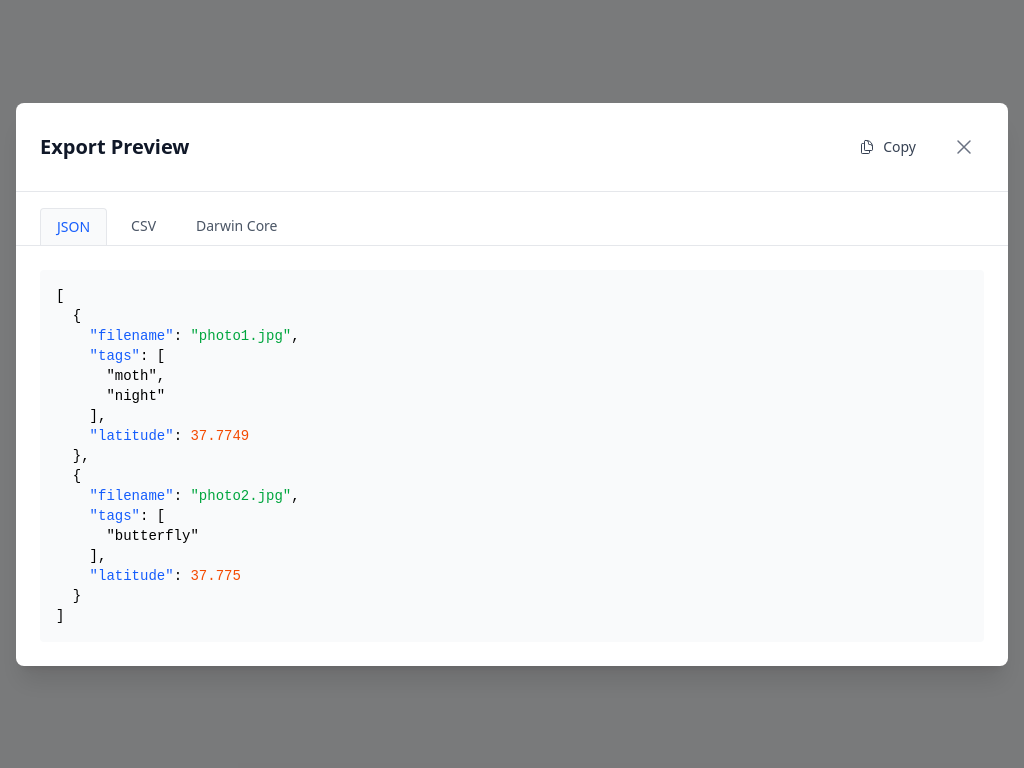
Test: PreviewModal › handles copy error gracefully
Click the button "Copy". click: (888, 146)
box: [843,128,932,164]
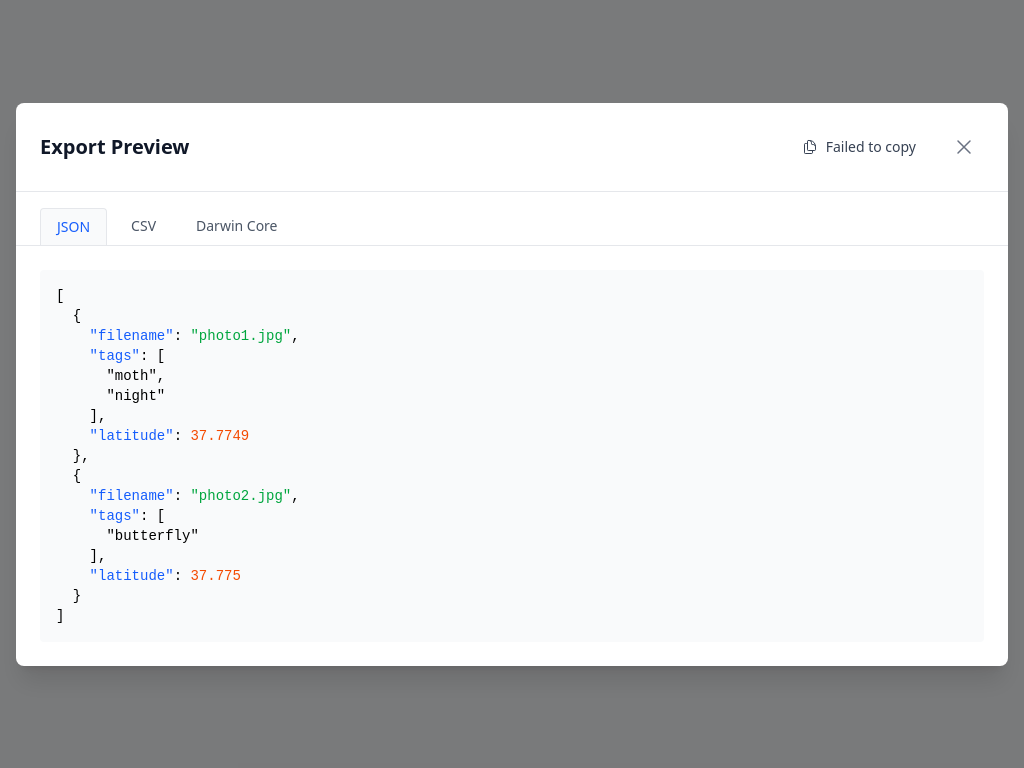
expect the button "Failed to copy" is shown: met, box [786,128,932,164]
